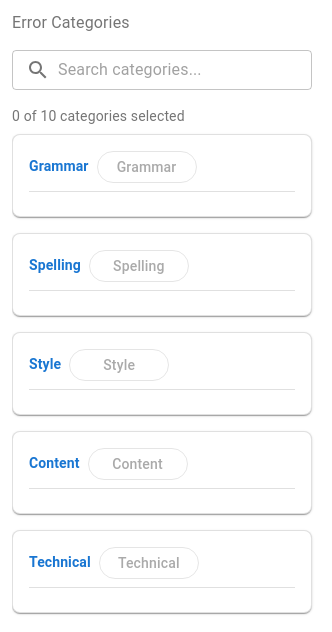
it: ErrorCategorization - Enhanced Tests › Basic Rendering - Fixed › should show category descriptions on hover with proper tooltip handling
Hover over the chip
Hover over the button with aria-label "Grammatical errors and issues" at x=146, y=167, box [96,151,196,183]
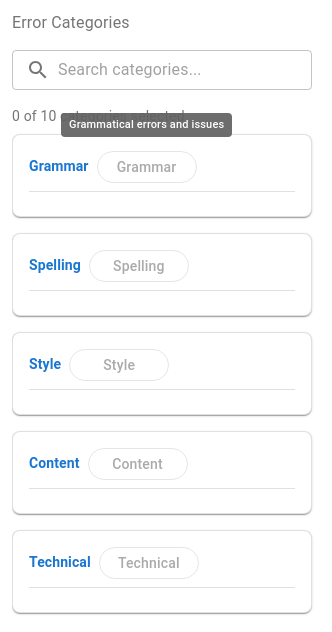
Now the tooltip "Grammatical errors and issues" is shown, box [59,110,234,151]
Now the tooltip reads "Grammatical errors and issues", box [69,118,224,130]
